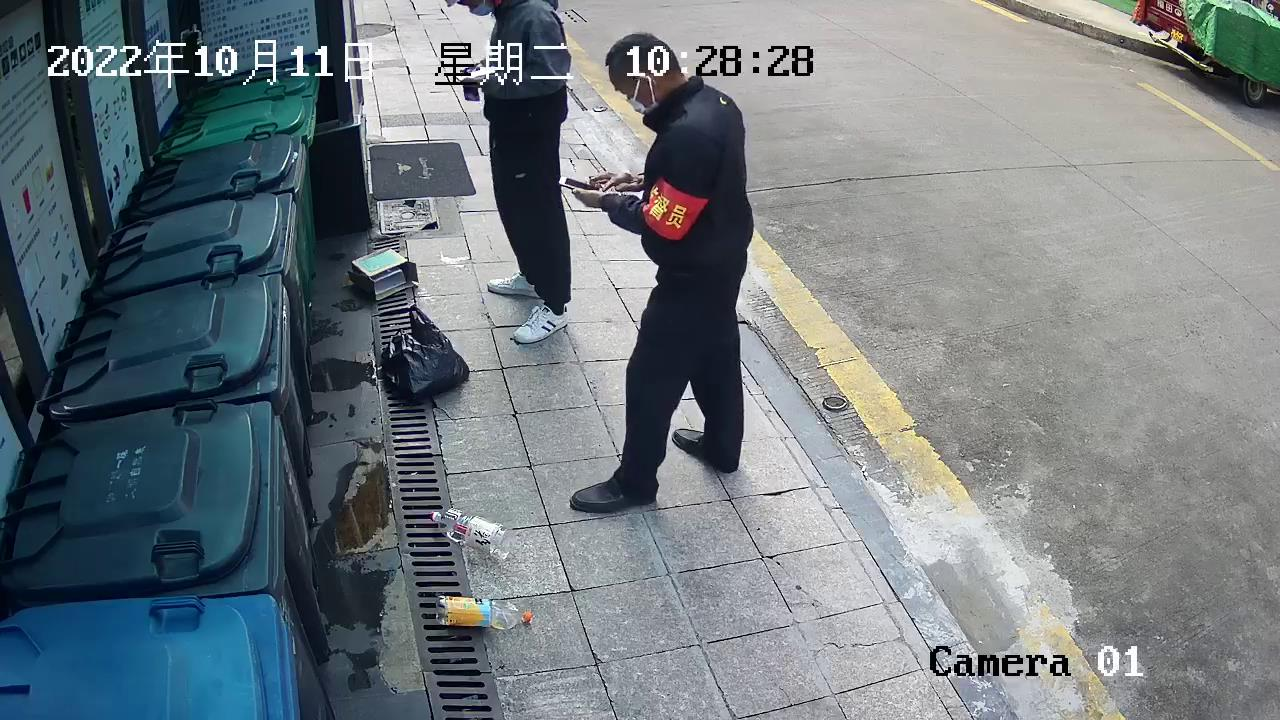garbage-bag: (374, 302, 475, 407)
suliaozhipin: (422, 504, 517, 567), (430, 591, 540, 635)
worker: (548, 25, 759, 517)
zhizhipin: (341, 242, 425, 306)
